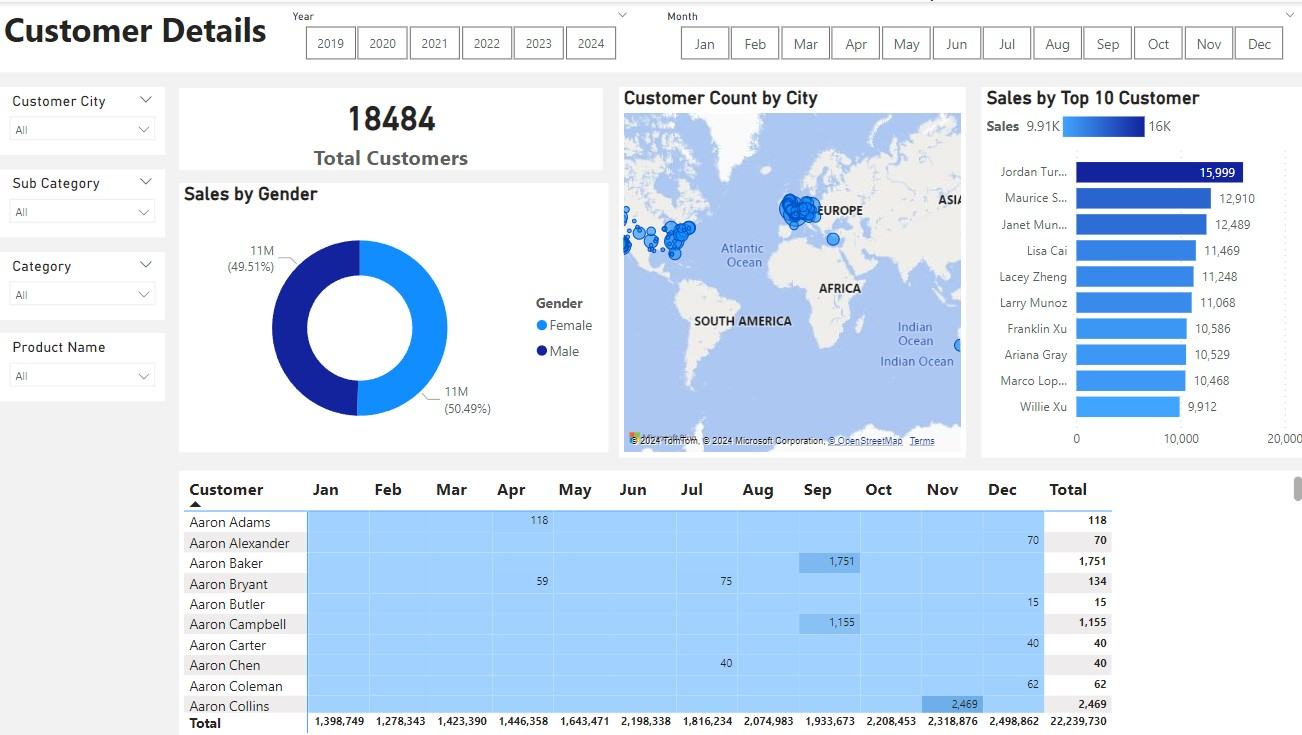

The page's visual inventory and layout, read from the dashboard file:
{"tool":"powerbi","page":{"name":"Customer Details","canvas":[1280,720],"ordinal":1},"visuals":[{"type":"textbox","box":[0,0,1279.9,68.5],"z":0},{"type":"slicer","fields":{"Values":["DIM Customers.Customer City"]},"box":[0,83.4,162.6,66],"z":1000},{"type":"slicer","fields":{"Values":["DIM Products.Sub Category"]},"box":[0,164.1,162.6,66],"z":2000},{"type":"slicer","fields":{"Values":["DIM Products.Product Category"]},"box":[0,244.8,162.6,66],"z":3000},{"type":"slicer","fields":{"Values":["DIM Products.Product Name"]},"box":[0,324.2,162.6,66],"z":4000},{"type":"slicer","fields":{"Values":["DIM Calender.Year"]},"box":[250.6,4.1,387.5,61],"z":5000},{"type":"slicer","fields":{"Values":["DIM Calender.MonthShort"]},"box":[640.5,4.9,639.3,61.1],"z":6000},{"type":"barChart","title":"Sales by Top 10 Customer","fields":{"Y":["Key Measures.Sales"],"Category":["DIM Customers.Full Name"]},"box":[960.6,83.7,319.7,362.3],"z":7000},{"type":"pivotTable","fields":{"Rows":["DIM Customers.Full Name"],"Values":["Key Measures.Sales"],"Columns":["DIM Calender.MonthShort"]},"box":[176,458.4,1103.8,261.6],"z":8000},{"type":"card","fields":{"Values":["DIM Customers.CustomerKey"]},"box":[176.1,84,414.6,79.9],"z":10000},{"type":"donutChart","fields":{"Y":["Key Measures.Sales"],"Category":["DIM Customers.Gender"]},"box":[176.1,177.5,420,262.8],"z":11000},{"type":"map","fields":{"Category":["DIM Customers.Customer City"],"Size":["Key Measures.Sales"]},"box":[606.5,83.7,338.9,362.3],"z":12000}]}

Visuals, with their boxes in screenshot pixels (x1, y1, x2, y2), scaled from the page's 1280x720 canvas onto the 1302x735 screenshot:
textbox: crop(0, 0, 1301, 70)
slicer - DIM Customers.Customer City: crop(0, 85, 165, 153)
slicer - DIM Products.Sub Category: crop(0, 168, 165, 235)
slicer - DIM Products.Product Category: crop(0, 250, 165, 317)
slicer - DIM Products.Product Name: crop(0, 331, 165, 398)
slicer - DIM Calender.Year: crop(255, 4, 649, 66)
slicer - DIM Calender.MonthShort: crop(652, 5, 1301, 67)
"Sales by Top 10 Customer" barChart: crop(977, 85, 1301, 455)
pivotTable - DIM Customers.Full Name x Key Measures.Sales: crop(179, 468, 1301, 734)
card - DIM Customers.CustomerKey: crop(179, 86, 601, 167)
donutChart - Key Measures.Sales x DIM Customers.Gender: crop(179, 181, 606, 449)
map - DIM Customers.Customer City x Key Measures.Sales: crop(617, 85, 962, 455)
